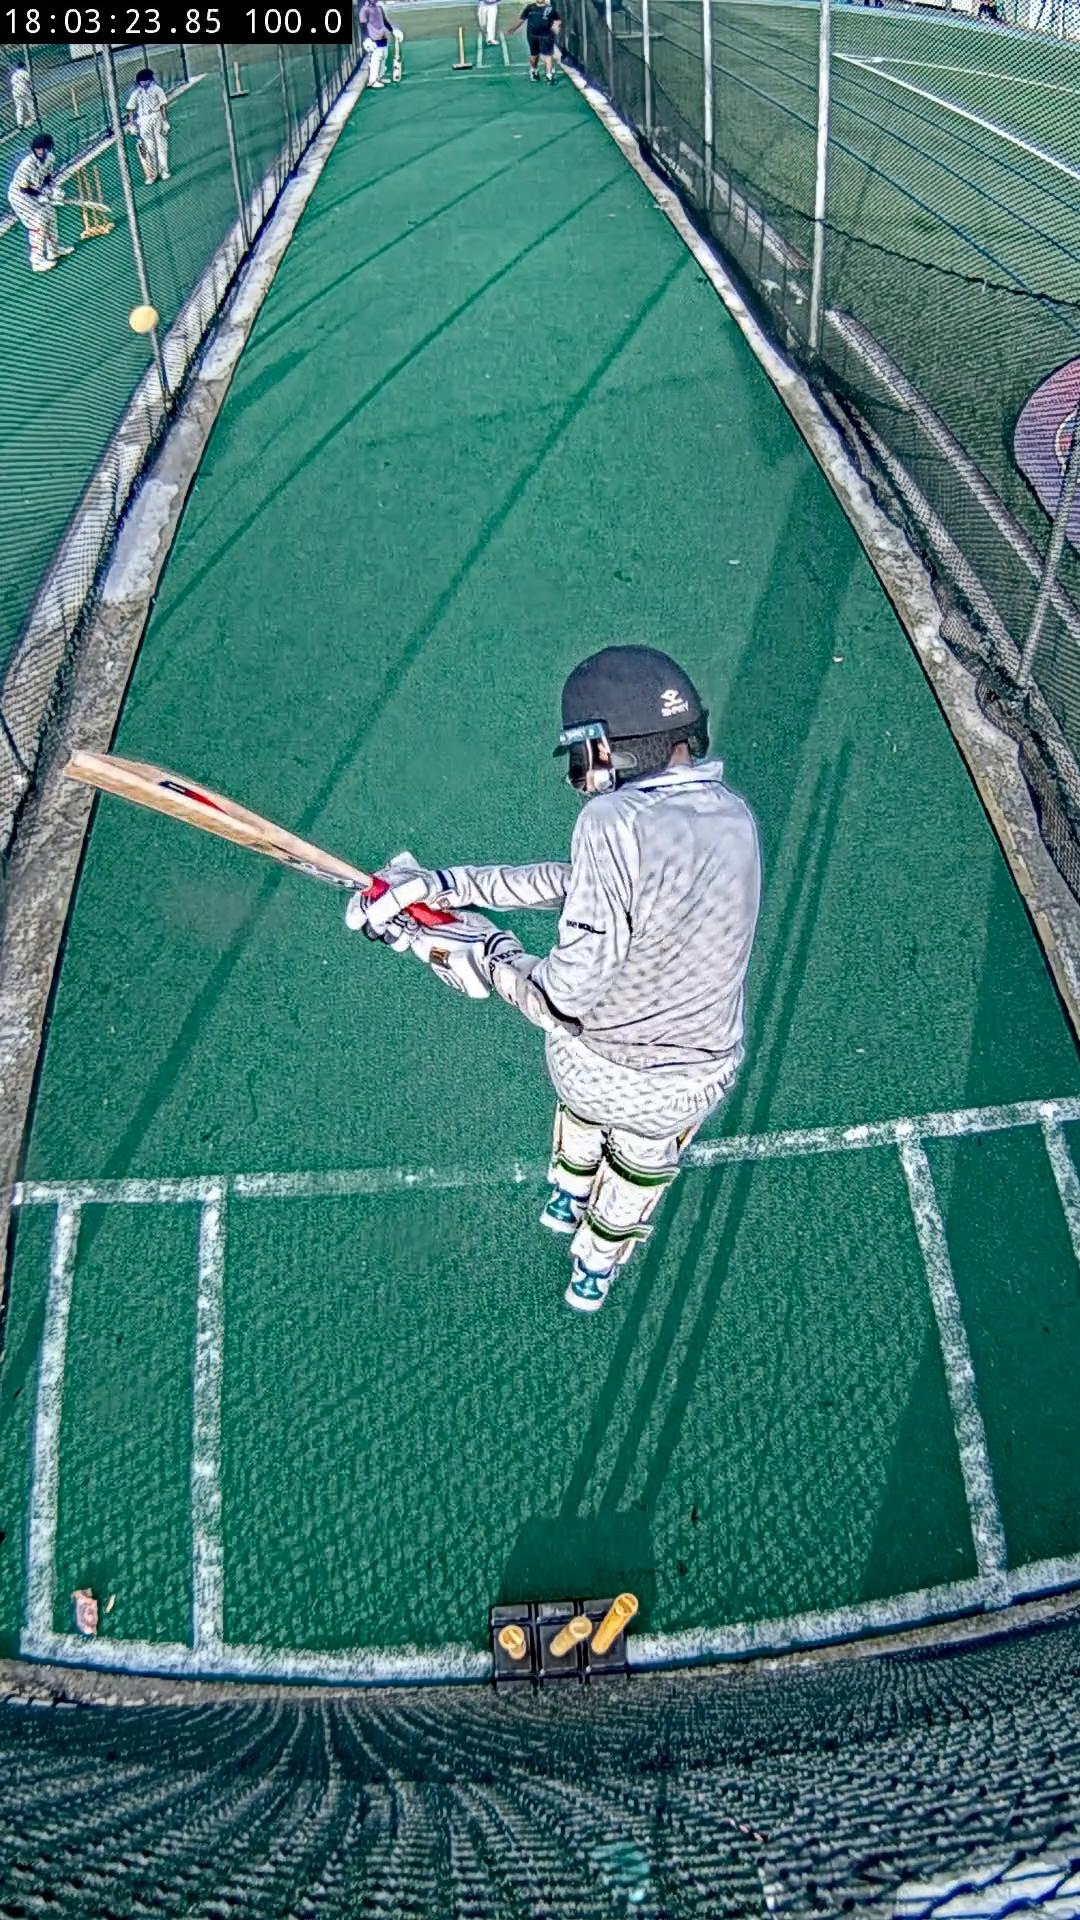ball: (128, 303, 157, 334)
bat: (63, 750, 372, 889)
gloves: (345, 852, 502, 997)
helmet: (555, 645, 708, 795)
stumps: (492, 1594, 637, 1688)
